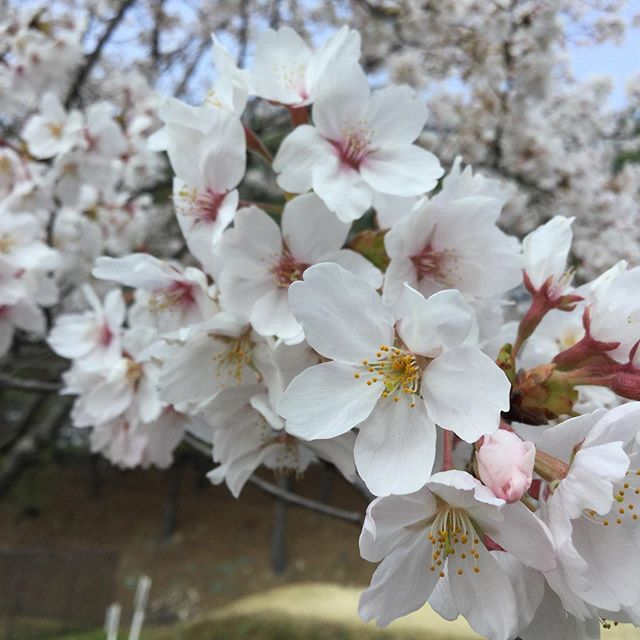flowers: (4, 7, 640, 640)
